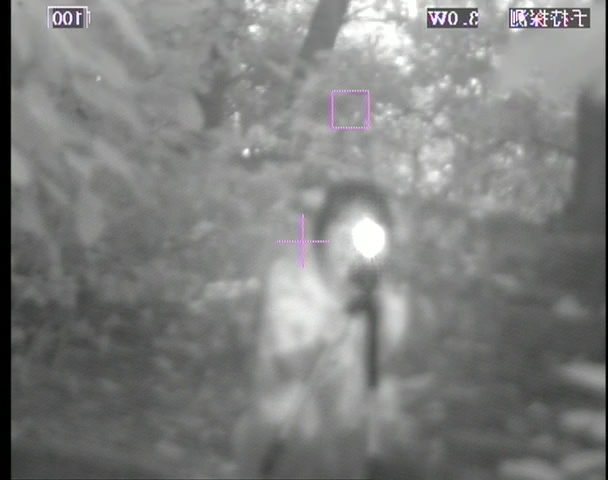my: (350, 216, 390, 259)
